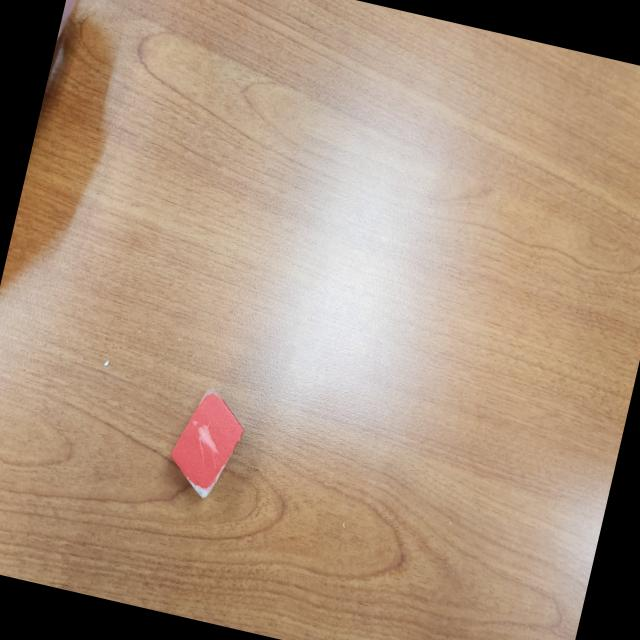broken: (162, 380, 252, 504)
